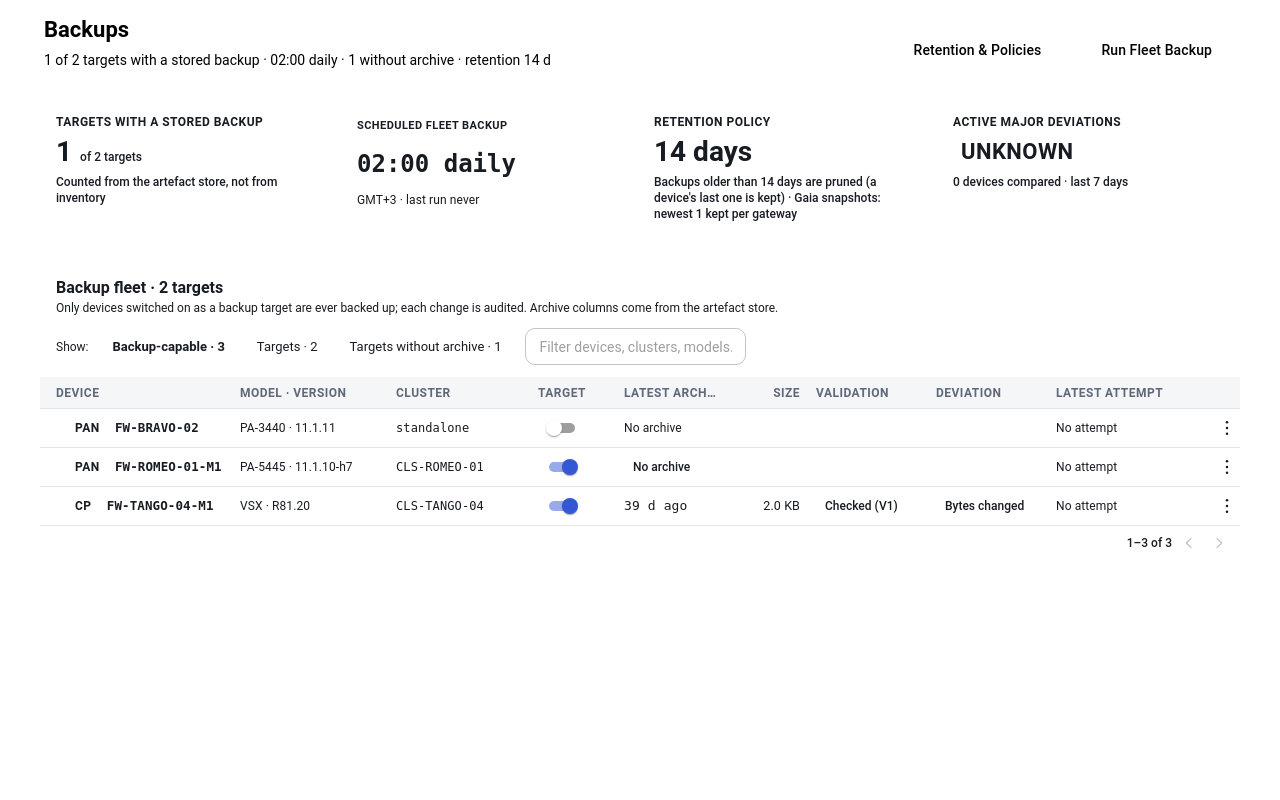
Test: the Backups screen (UI review 2026-09-23) › describes the daily Istanbul backup window separately from polling
Expected: the text "FW-TANGO-04-M1" is shown, [107,496,214,516]
Expected: the text "02:00 daily" is shown, [357,150,516,178]
Click the button "Retention & Policies".
click(978, 50)  # box [890,30,1065,70]
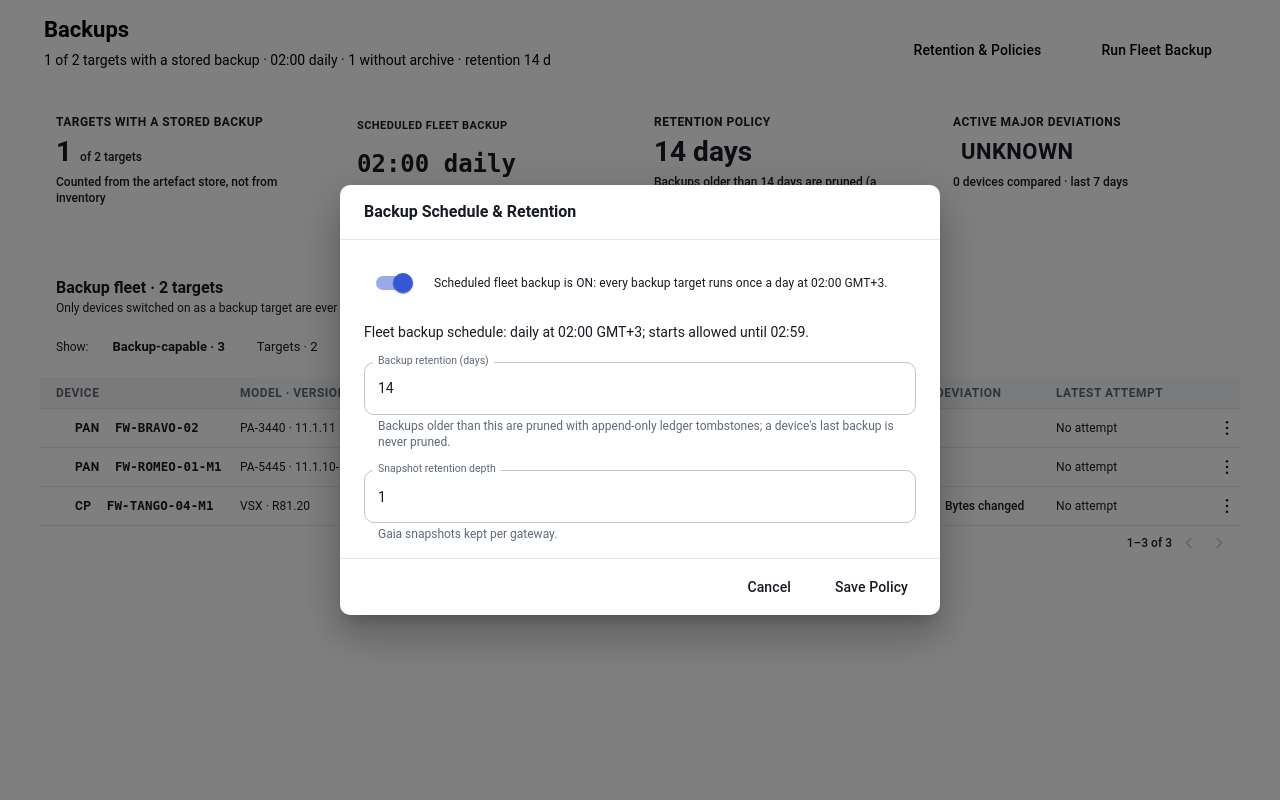
Expected: the text "Fleet backup schedule: daily at 02:00 GMT+3; starts allowed until 02:59." is shown, [364,324,809,340]
Expected: the text "every backup target runs once a day at 02:00 GMT+3" is shown, [434,276,888,290]
